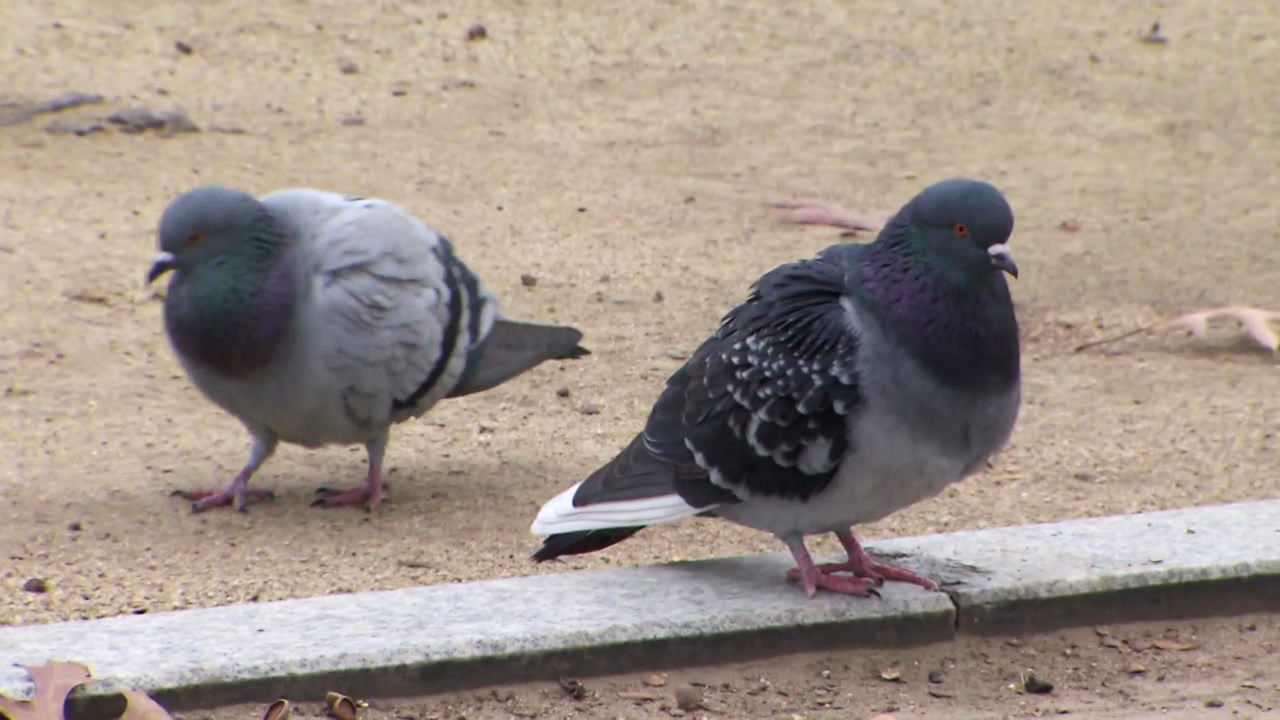pheasant: (547, 187, 1043, 603), (149, 191, 542, 503)
